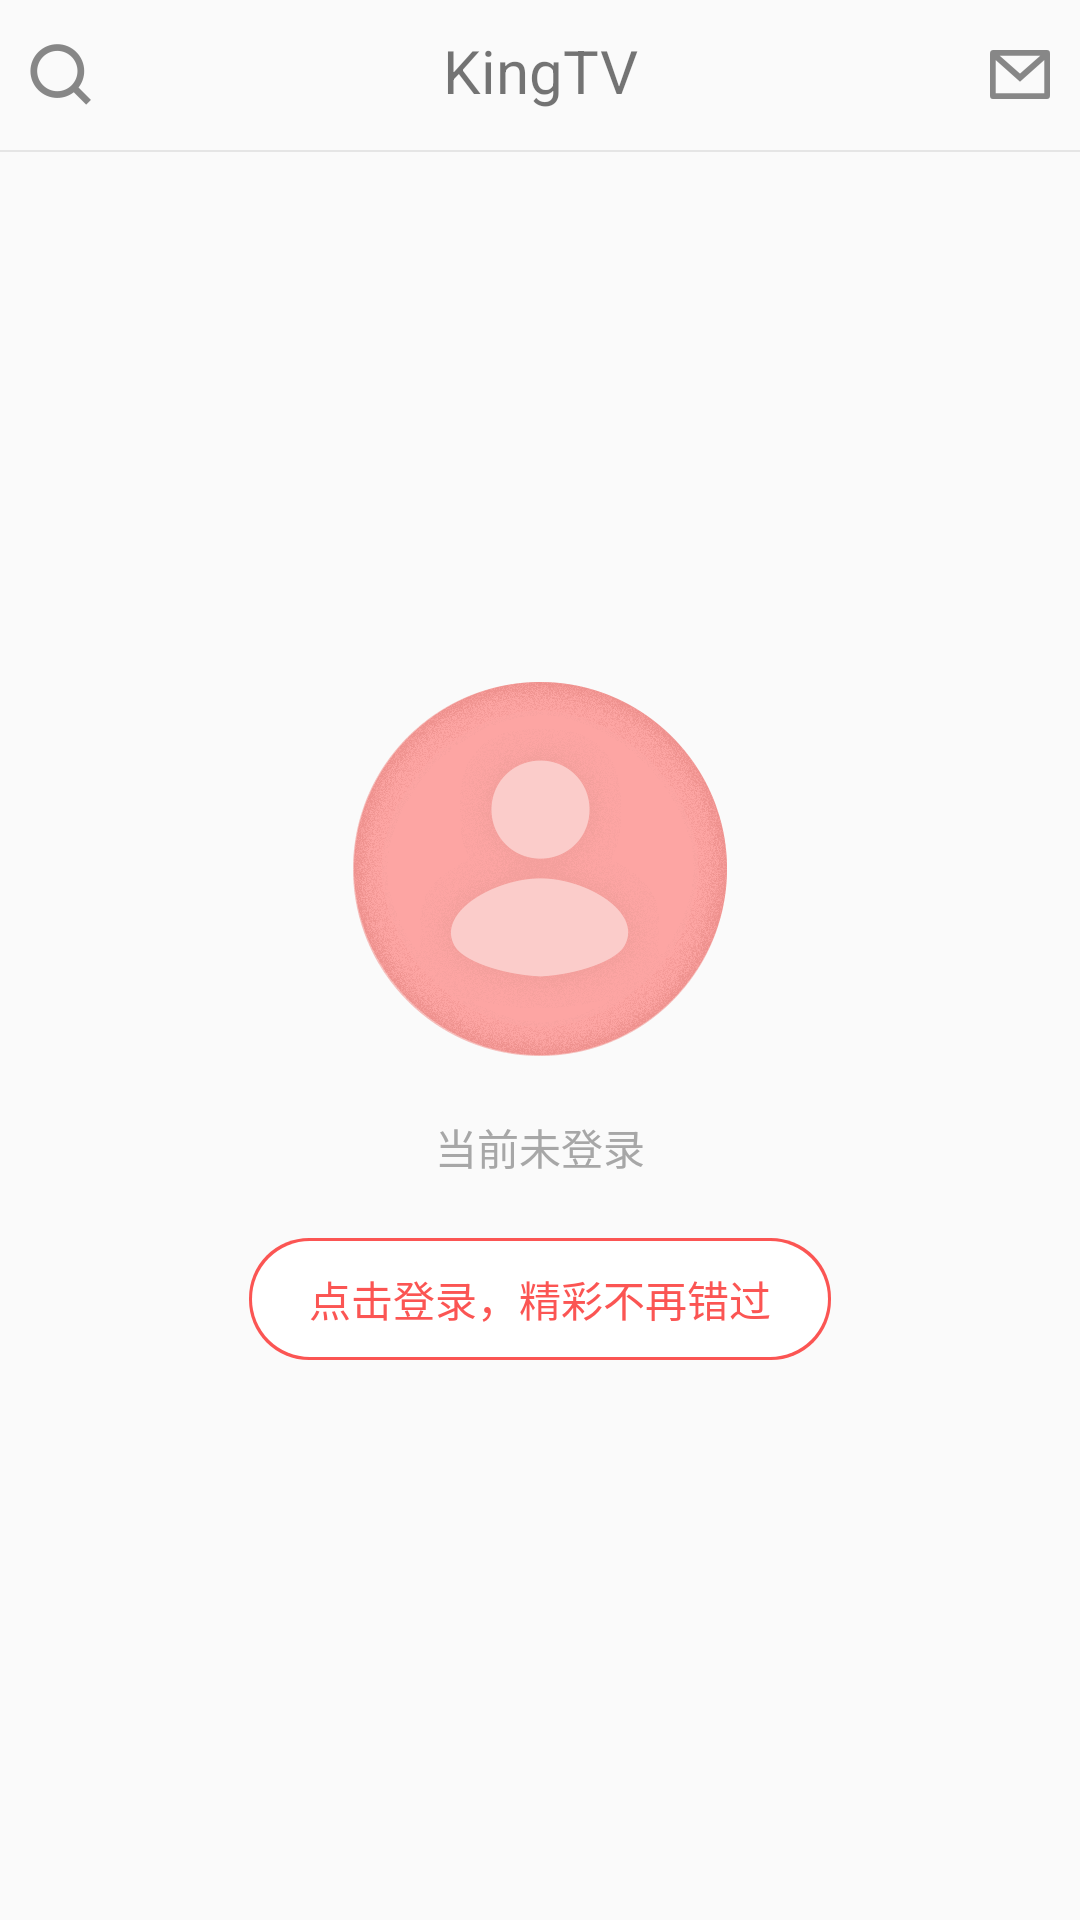

Point at icon controls on the screen. Image size 1080×1920, points as [x,y].
top message: [1020,74]
top search: [60,74]
